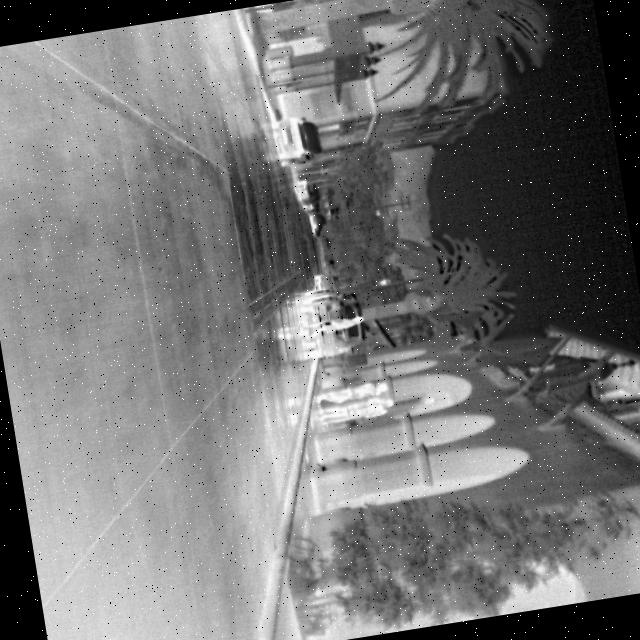Pedestrian: (314, 393, 395, 424), (312, 379, 390, 408), (298, 314, 366, 342)
Vehicle: (297, 290, 368, 360), (269, 110, 326, 167)
